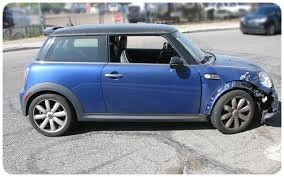Dent: (258, 85, 278, 119)
Scratch: (240, 71, 251, 82)
